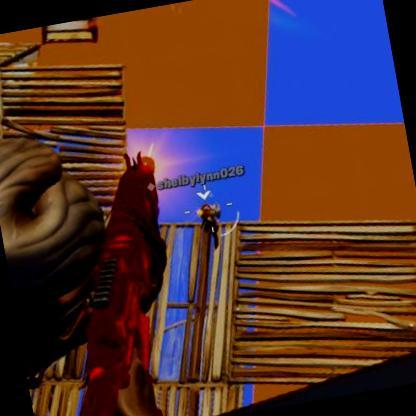person: (198, 200, 222, 240)
